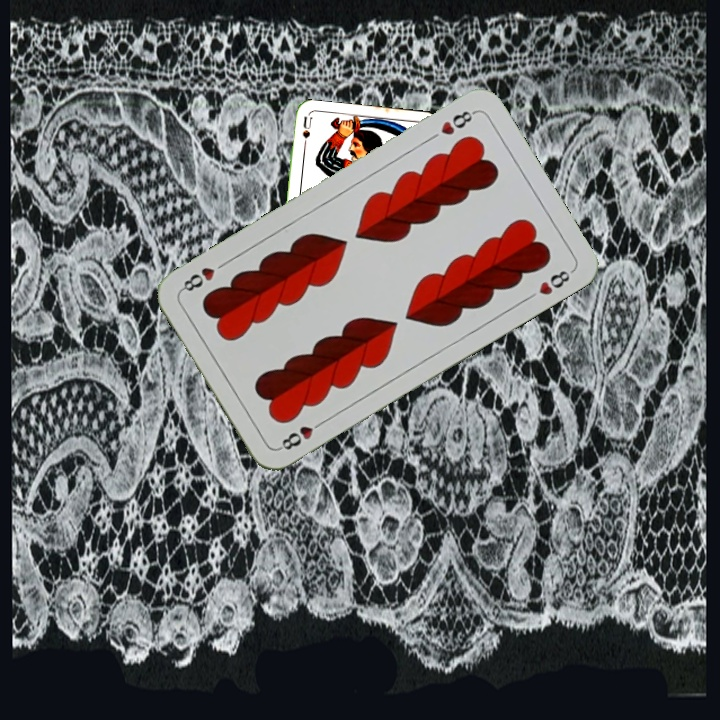H8: (274, 416, 327, 453), (436, 106, 478, 138)
SU: (298, 114, 314, 155)
